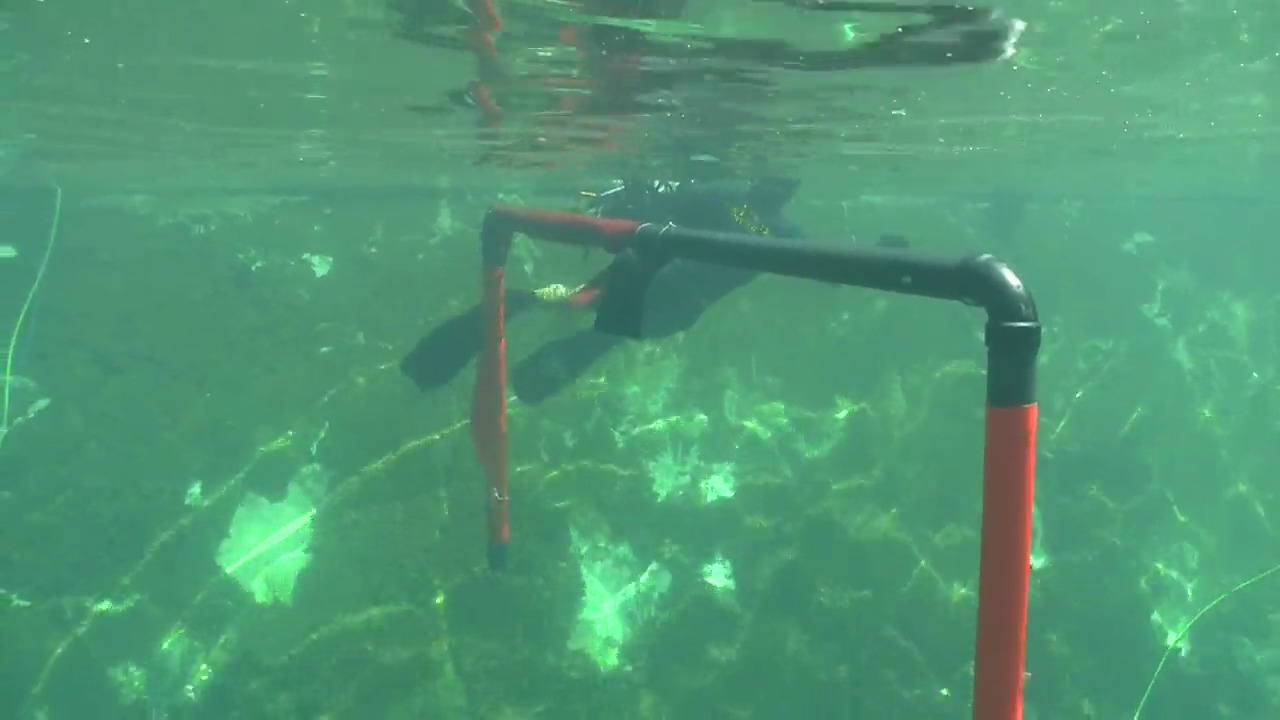gate: (474, 192, 1051, 720)
